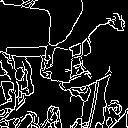cube: (32, 41, 77, 86)
